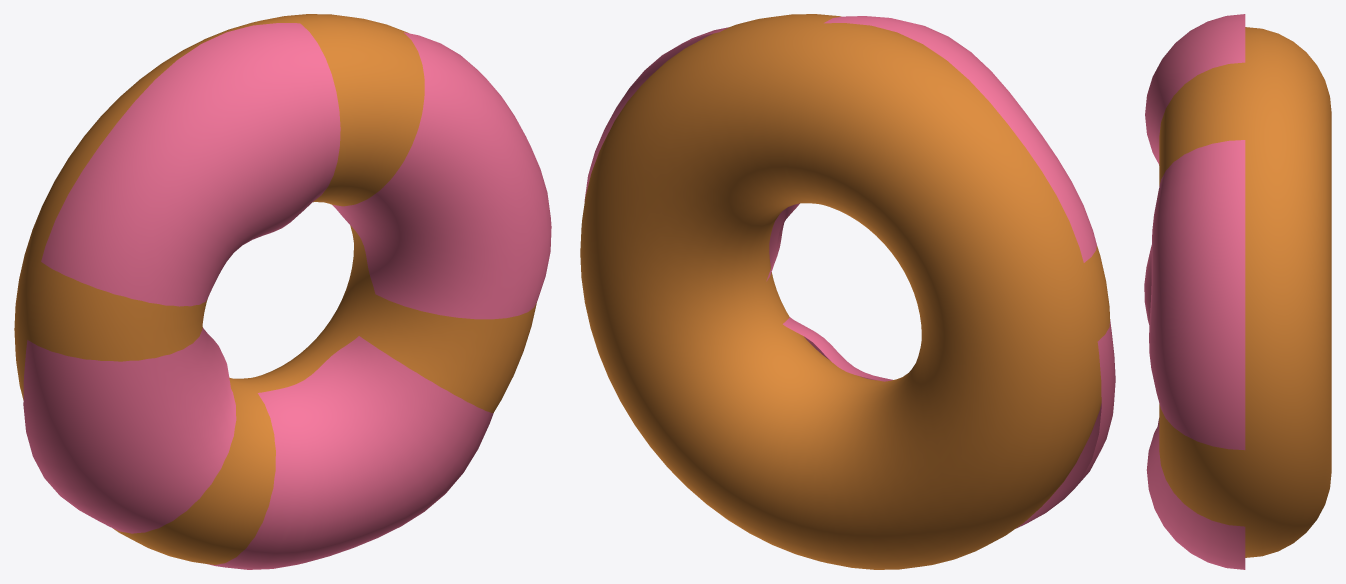
File: donut.obj
3 views of the same model, side by side, from view 1: azimuth 30°, elevation 25°; view 2: azimuth 150°, elevation 25°; view 3: azimuth 270°, elevation 25° (orthographic). The views are drawn at different scales.
Parts seen in each view (by area): view 1: StrawberryGlaze, DonutDough; view 2: DonutDough, StrawberryGlaze; view 3: DonutDough, StrawberryGlaze.
Part boxes in pixels (x1,y1,x2,y2): StrawberryGlaze: (23, 23, 551, 569); DonutDough: (14, 14, 536, 564); DonutDough: (580, 14, 1110, 569); StrawberryGlaze: (584, 16, 1115, 528); DonutDough: (1159, 27, 1331, 557); StrawberryGlaze: (1144, 14, 1245, 569).
Size of the model in its own units: 3.03 by 3.03 by 1.04.
